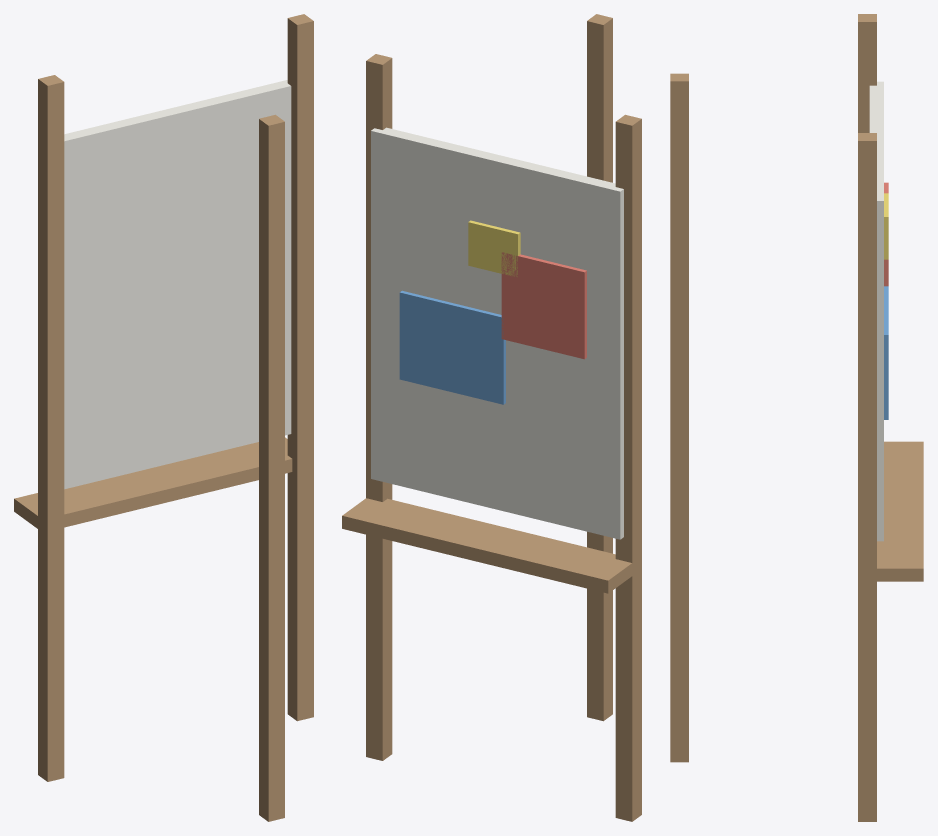
The model's file is easel.glb.
3 renders of one model, left to right at view 1: azimuth 30°, elevation 25°; view 2: azimuth 150°, elevation 25°; view 3: azimuth 270°, elevation 25°, orthographic. The views are drawn at different scales.
Parts seen in each view (by area): view 1: easel; view 2: easel; view 3: easel.
Boxes of the visible parts, x1,y1,x2,y2 form: easel: (14, 14, 313, 821); easel: (342, 14, 641, 821); easel: (670, 14, 923, 821).
Size of the model in its own units: 0.64 by 1.6 by 0.54.
